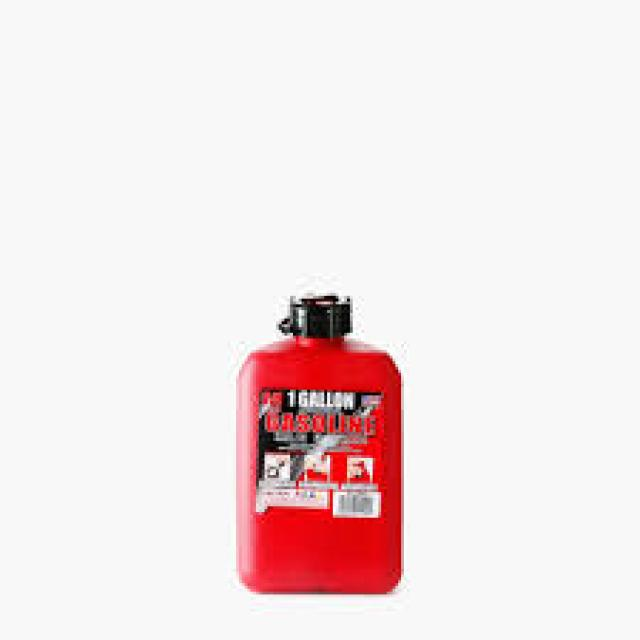gasolin: (233, 293, 404, 597)
